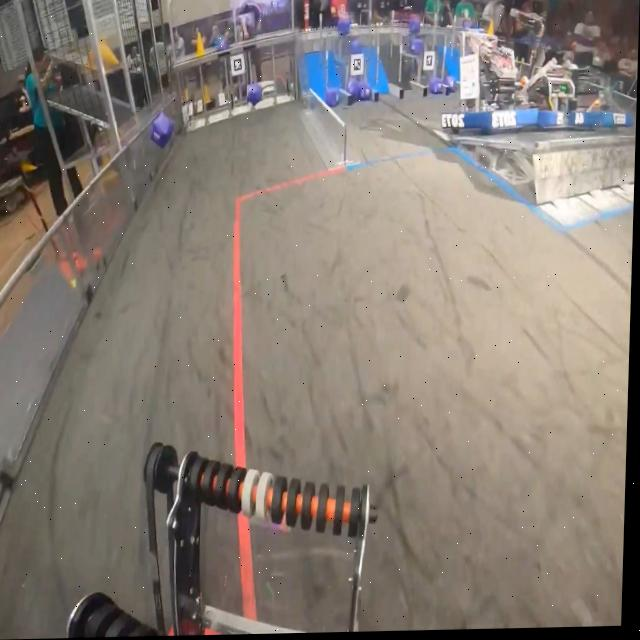robot: (441, 28, 542, 139), (533, 58, 592, 133), (588, 73, 634, 130)
